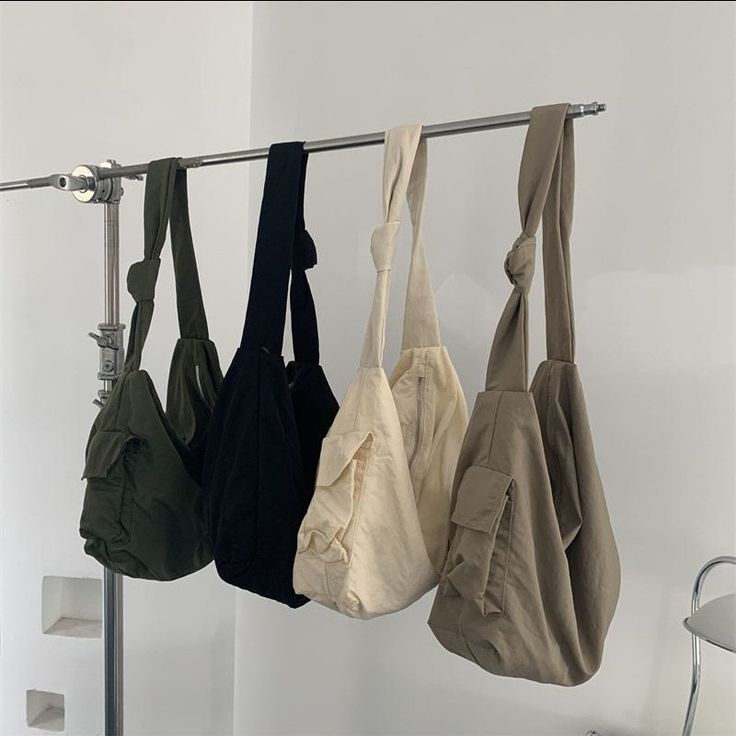nylon: (79, 103, 621, 688)
